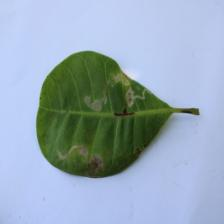leaf miner: (35, 49, 200, 178)
